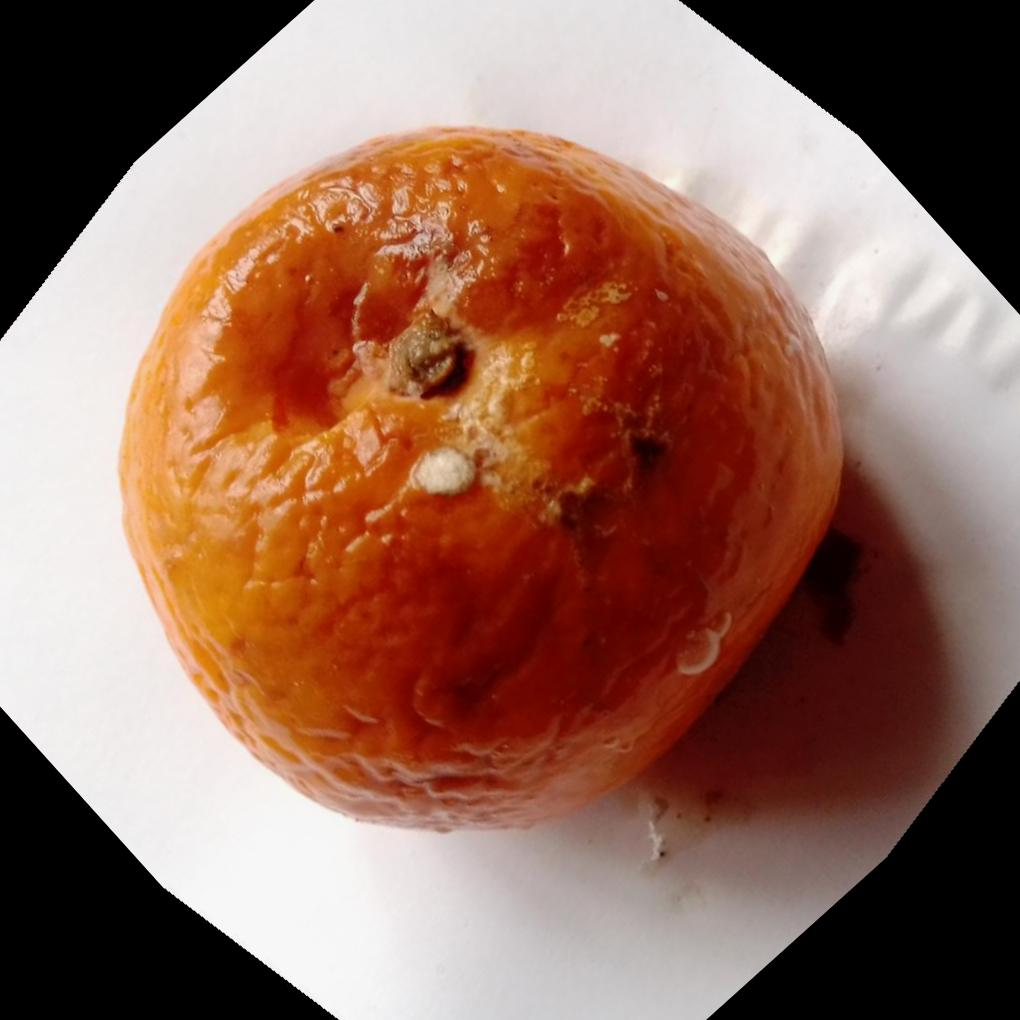FreshOrange: (117, 125, 850, 839)
